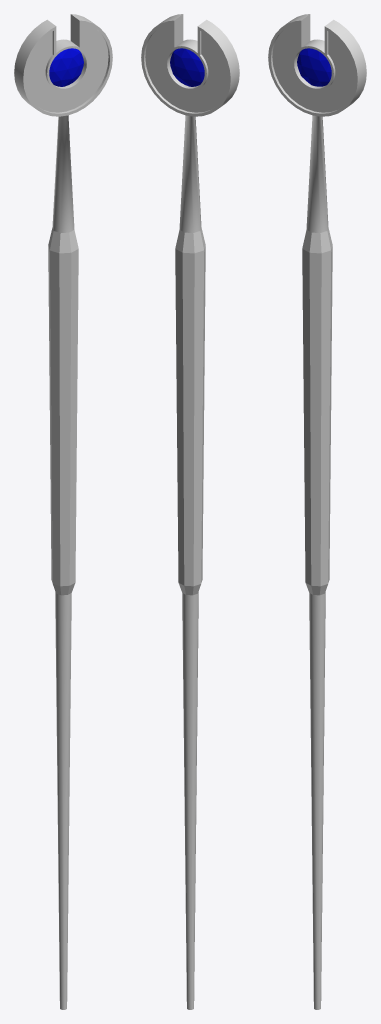
The model's file is FLAG.glb.
3 views of the same model, side by side, from view 1: azimuth 30°, elevation 25°; view 2: azimuth 150°, elevation 25°; view 3: azimuth 330°, elevation 25° (orthographic).
Visible parts, largest first — view 1: BATON; view 2: BATON; view 3: BATON.
Boxes of the visible parts, left/top/right/bottom form: BATON: left=14, top=14, right=112, bottom=1009; BATON: left=141, top=14, right=239, bottom=1009; BATON: left=268, top=14, right=366, bottom=1009.
Size of the model in its own units: 0.1639 by 1.73 by 0.05.
